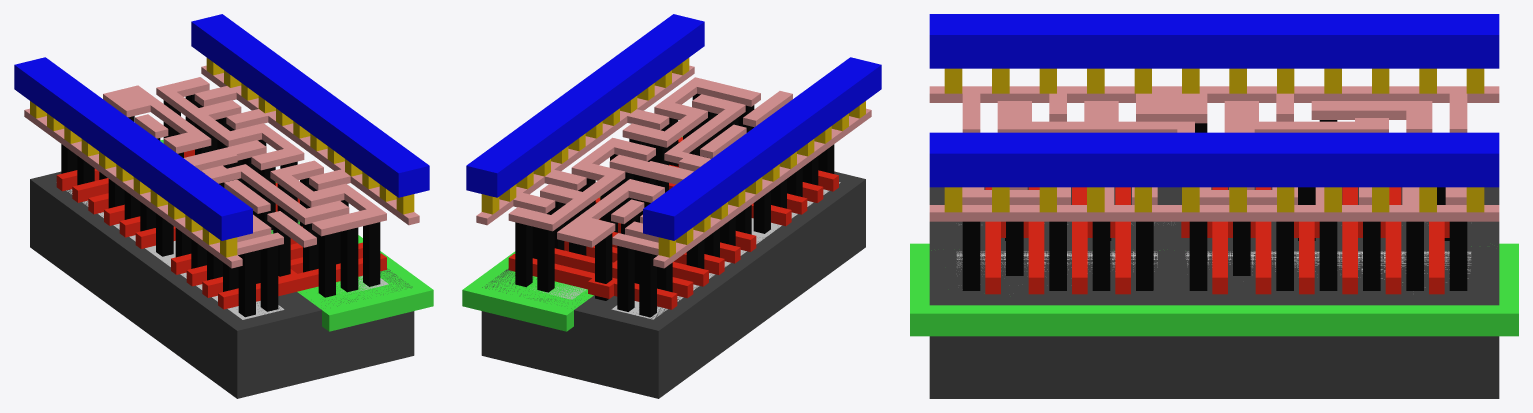
The model's file is sky130_fd_sc_hd__a2bb2oi_2.obj.
3 renders of one model, left to right at view 1: azimuth 30°, elevation 25°; view 2: azimuth 150°, elevation 25°; view 3: azimuth 270°, elevation 25°, orthographic. The views are drawn at different scales.
Visible parts, largest first — view 1: subs, metal1, li, licon, poly, nwell, mcon, diff; view 2: subs, metal1, li, licon, poly, nwell, mcon, diff; view 3: metal1, subs, li, nwell, licon, poly, mcon, tap.
Boxes of the visible parts, box(x1,y1,x2,y2) form: subs: box(30, 171, 414, 398); metal1: box(14, 14, 429, 240); li: box(24, 65, 419, 268); licon: box(61, 94, 380, 317); poly: box(56, 149, 386, 309); nwell: box(160, 139, 433, 331); mcon: box(30, 58, 414, 257); diff: box(66, 189, 284, 319); subs: box(481, 171, 865, 398); metal1: box(466, 14, 881, 240); li: box(476, 65, 871, 268); licon: box(515, 93, 834, 317); poly: box(508, 137, 838, 309); nwell: box(462, 136, 682, 331); mcon: box(481, 58, 865, 257); diff: box(611, 182, 840, 319); metal1: box(929, 14, 1499, 187); subs: box(929, 187, 1499, 398); li: box(929, 86, 1499, 221); nwell: box(910, 243, 1518, 336); licon: box(962, 120, 1467, 290); poly: box(985, 187, 1449, 294); mcon: box(944, 68, 1484, 212); tap: box(956, 251, 1471, 287).
Size of the model in its own units: 3.2 by 2.74 by 5.9.
